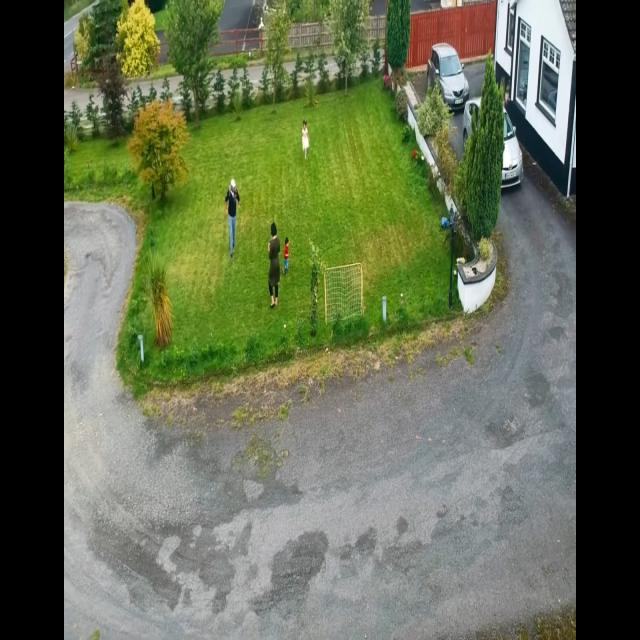humans: (223, 170, 243, 260), (266, 214, 282, 314), (279, 232, 293, 284), (300, 112, 312, 164)
